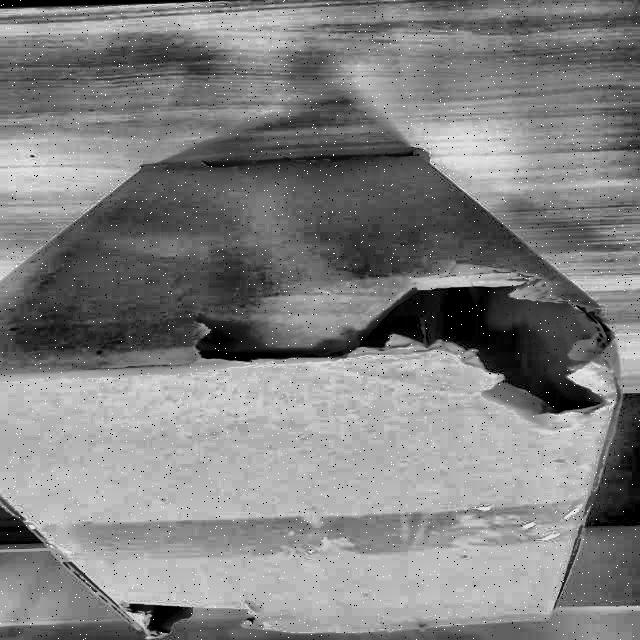box: (1, 145, 635, 640)
hole: (177, 270, 611, 418), (119, 596, 285, 634)
